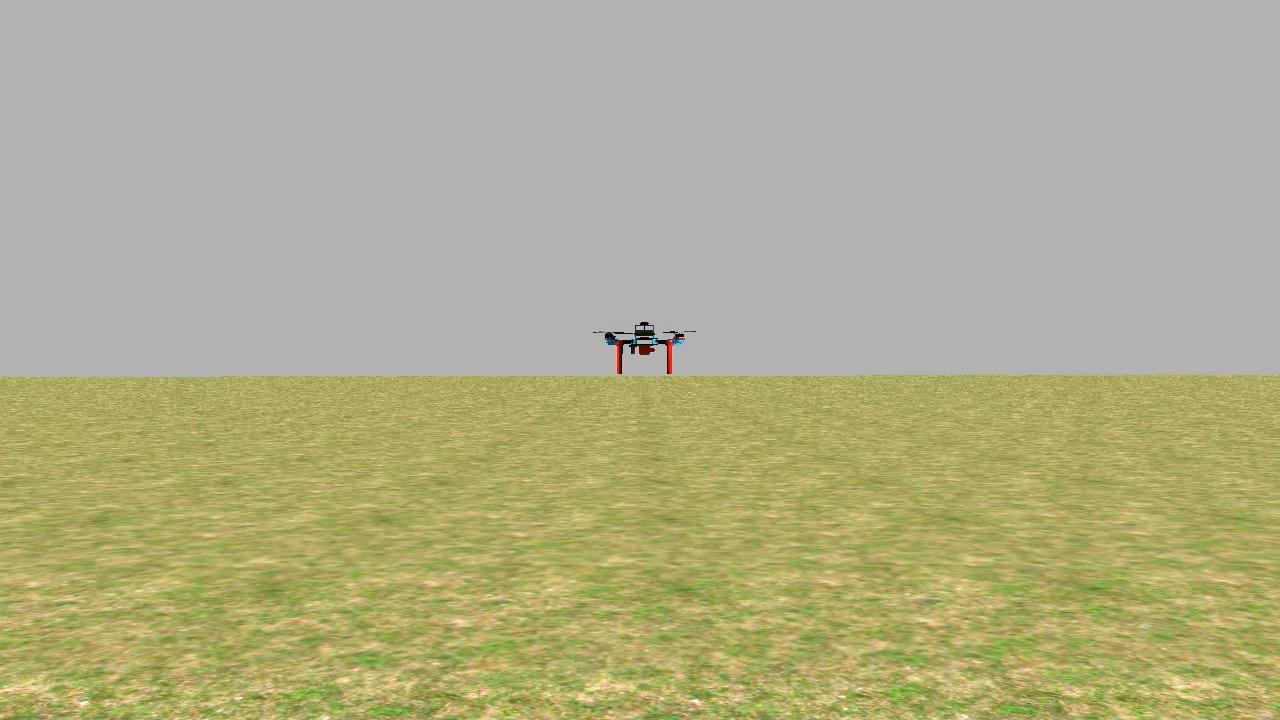UAV: (598, 311, 692, 380)
